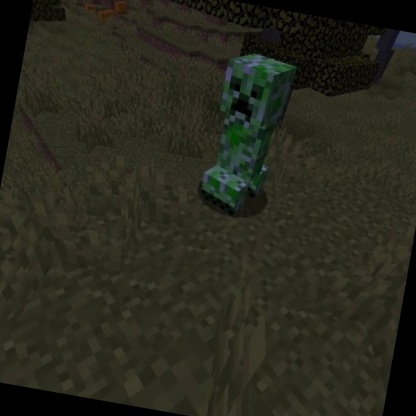creeper: (192, 45, 303, 228)
